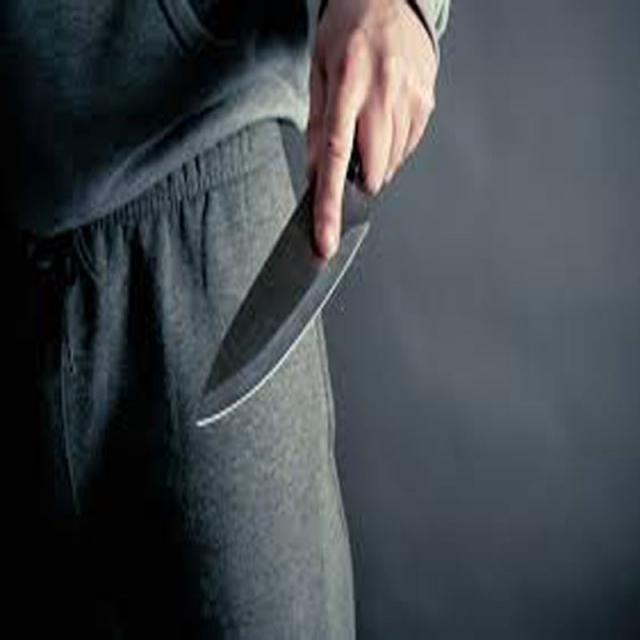-: (187, 59, 415, 438)
